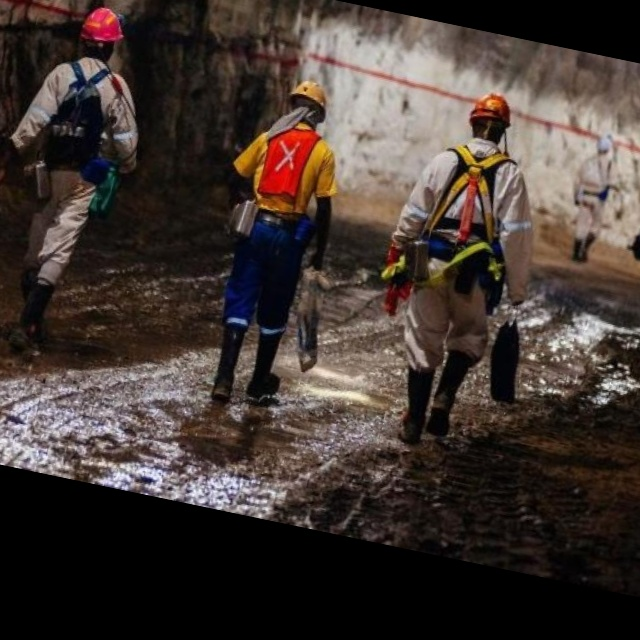Con_Casco: (72, 3, 136, 67), (465, 86, 518, 145), (285, 77, 339, 131)
